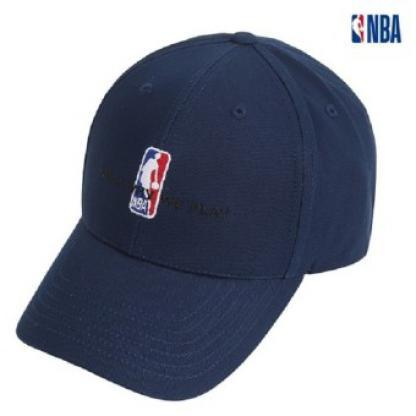cap: (7, 25, 384, 408)
